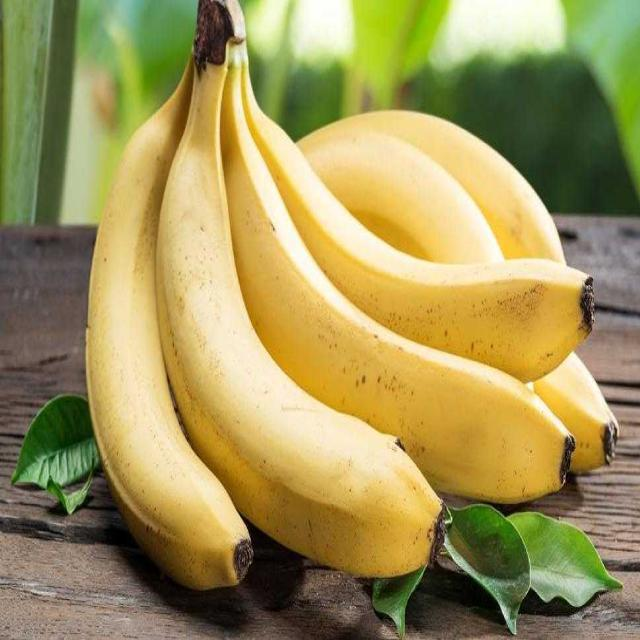banana: (74, 14, 616, 616)
